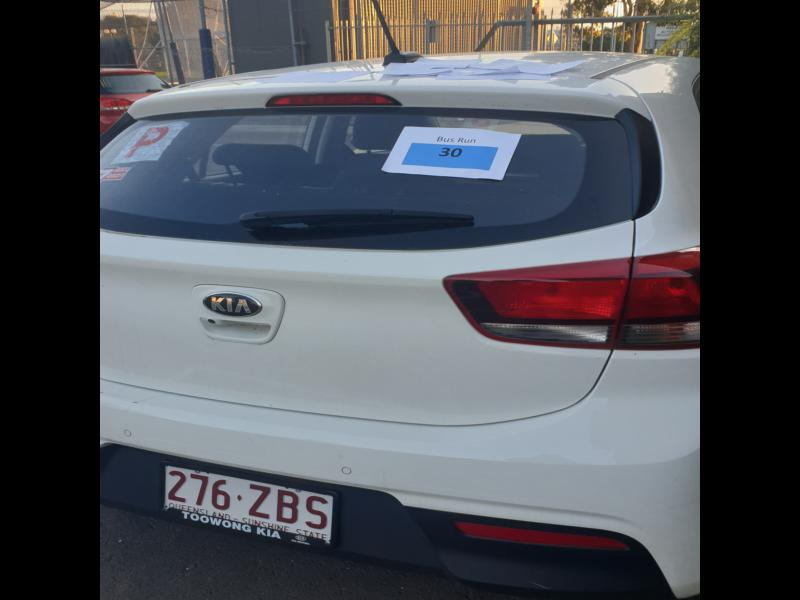BusRun: (404, 140, 498, 173)
PlateNo: (162, 462, 338, 546)
